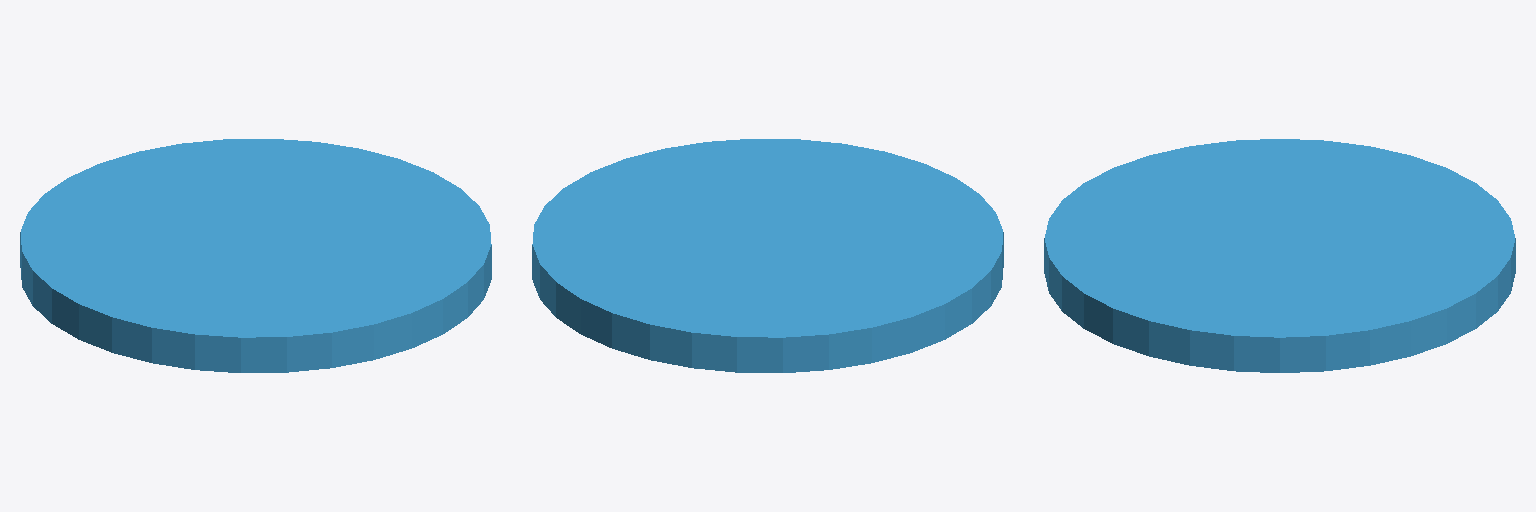
The robot description file, URDF, robot "circular":
<?xml version="1.0"?>
<robot name="circular">
    <link name="rectangle">
        <visual>
            <geometry>
                <box size="0.1 0.1 0.008" />
            </geometry>
            <origin xyz="0 0 0" rpy="0 0 0" />
        </visual>
        <collision>
            <origin xyz="0 0 0"/>
            <geometry>
                <box size="0.001 0.001 0.008" />
            </geometry>
        </collision>
    </link>

    <link name="circular">
        <visual>
            <geometry>
                <cylinder radius="1.2" length="0.2"/>
            </geometry>
            <origin xyz="0 0 0.05" rpy="0 0 0" />
        </visual>
        <collision>
            <origin xyz="0 0 0.05"/>
            <geometry>
                <cylinder radius="1.2" length="0.5"/>
            </geometry>
        </collision>
        <inertial>
            <mass value="3"/>
            <inertia ixx="0.3325" ixy="0.0" ixz="0.0" iyy="0.3325" iyz="0.0" izz="0.54"/>
        </inertial>
    </link>

    <joint name="rot1" type="prismatic">
        <origin xyz="0 0 0.25" rpy="0 0 0" />
        <parent link="rectangle"/>
        <child link="circular" />
        <axis xyz="0.0 1.0 0.0" />
        <limit effort="3" velocity="1.0" lower="-10" upper="10"/>
    </joint>
</robot>

--- Facts derived from the render (not from the file) ---
3 views of the same robot in one strip: view 1: azimuth 30°, elevation 25°; view 2: azimuth 150°, elevation 25°; view 3: azimuth 270°, elevation 25° (orthographic).
Robot: circular — 2 links, 1 joints (1 prismatic); root link rectangle; default pose: all joints at 0.
Visible links, largest first — view 1: circular; view 2: circular; view 3: circular.
Boxes of the visible links, bbox=[...] form: circular: bbox=[20, 139, 491, 372]; circular: bbox=[532, 139, 1003, 372]; circular: bbox=[1044, 139, 1515, 372].
Size in the robot's own frame: 2.4 by 2.4 by 0.404 metres.
Geometry: primitives only (box / cylinder / sphere), no mesh files.